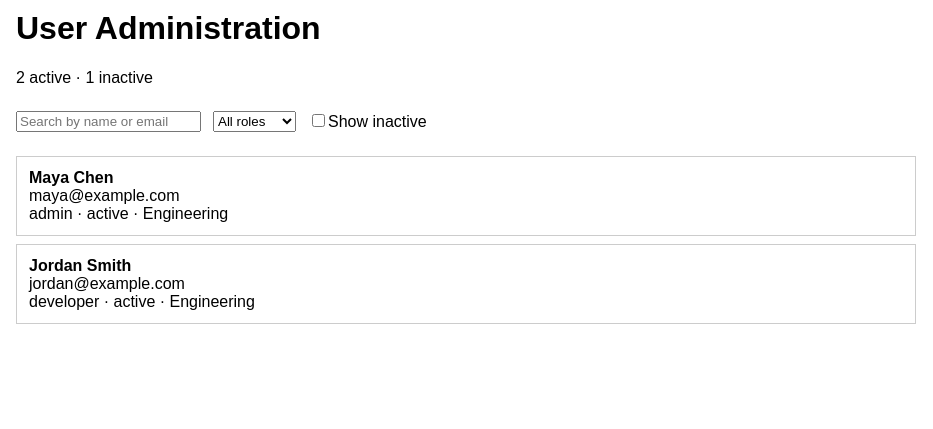
Test case: UserDashboard behavior › can show inactive users
Check: the text "Maya Chen" is shown, box [29,169,114,186]
What coordinates should you click on to do the following:
click the checkbox labelled "Show inactive"
I would click on:
 (318, 120)
Its box is [312,114,325,127].
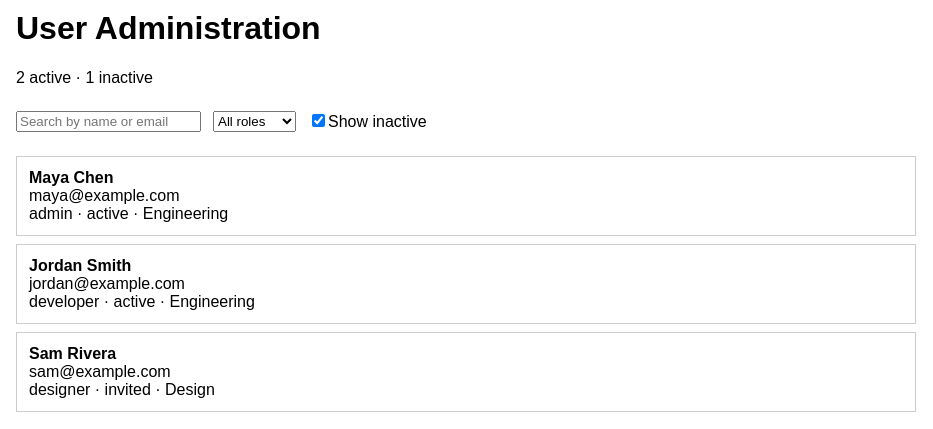
Check: the text "Sam Rivera" is shown, box [29,345,116,362]
